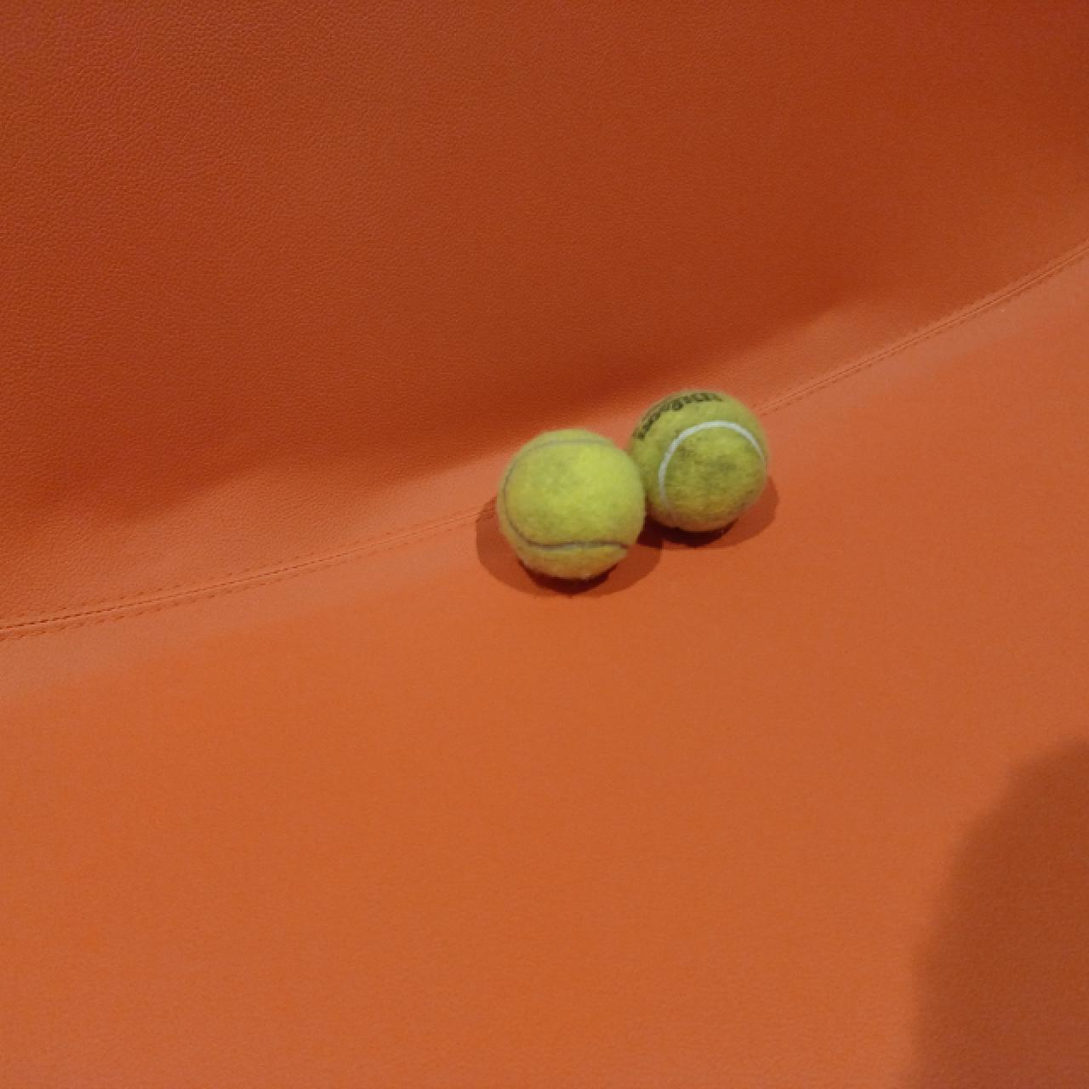tennis-ball: (498, 428, 648, 583), (628, 385, 771, 535)
